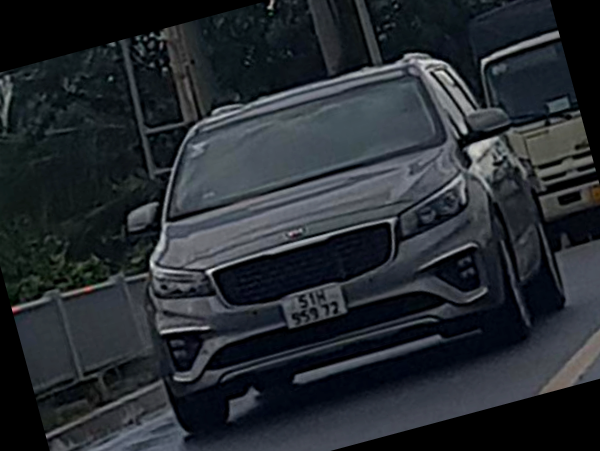lisence: (280, 284, 348, 330)
